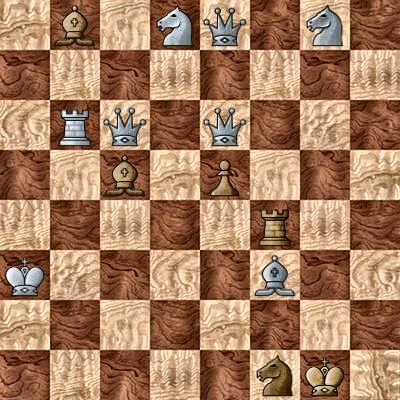black-bishop: (50, 0, 100, 50), (100, 150, 150, 200)
black-king: (300, 350, 350, 400)
black-knight: (250, 350, 300, 400)
black-pawn: (200, 150, 250, 200)
black-rook: (250, 200, 300, 250)
white-bishop: (250, 250, 300, 300)
white-king: (0, 250, 50, 300)
white-knight: (150, 0, 200, 50), (300, 0, 350, 50)
white-queen: (200, 0, 250, 50), (100, 100, 150, 150), (200, 100, 250, 150)
white-rook: (50, 100, 100, 150)
